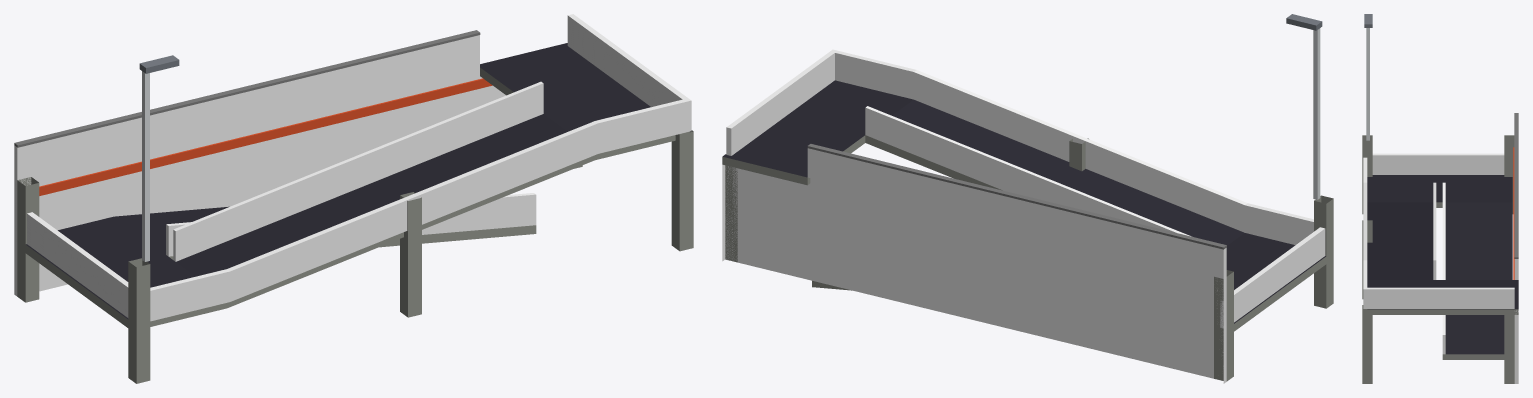
The model's file is top-stair3.fbx.
3 views of the same model, side by side, from view 1: azimuth 30°, elevation 25°; view 2: azimuth 150°, elevation 25°; view 3: azimuth 270°, elevation 25° (orthographic). The views are drawn at different scales.
Visible parts, largest first — view 1: a2008/0/top-stair3; view 2: a2008/0/top-stair3; view 3: a2008/0/top-stair3.
Boxes of the visible parts, x1,y1,x2,y2 form: a2008/0/top-stair3: (14,14,693,383); a2008/0/top-stair3: (722,14,1333,383); a2008/0/top-stair3: (1362,14,1518,383).
Bounding box in the file's own units: 20 × 11 × 7.6.
